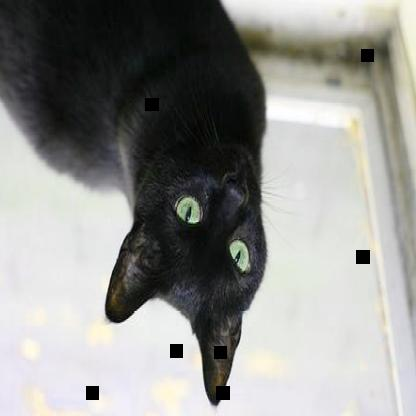cat: (0, 1, 268, 408)
